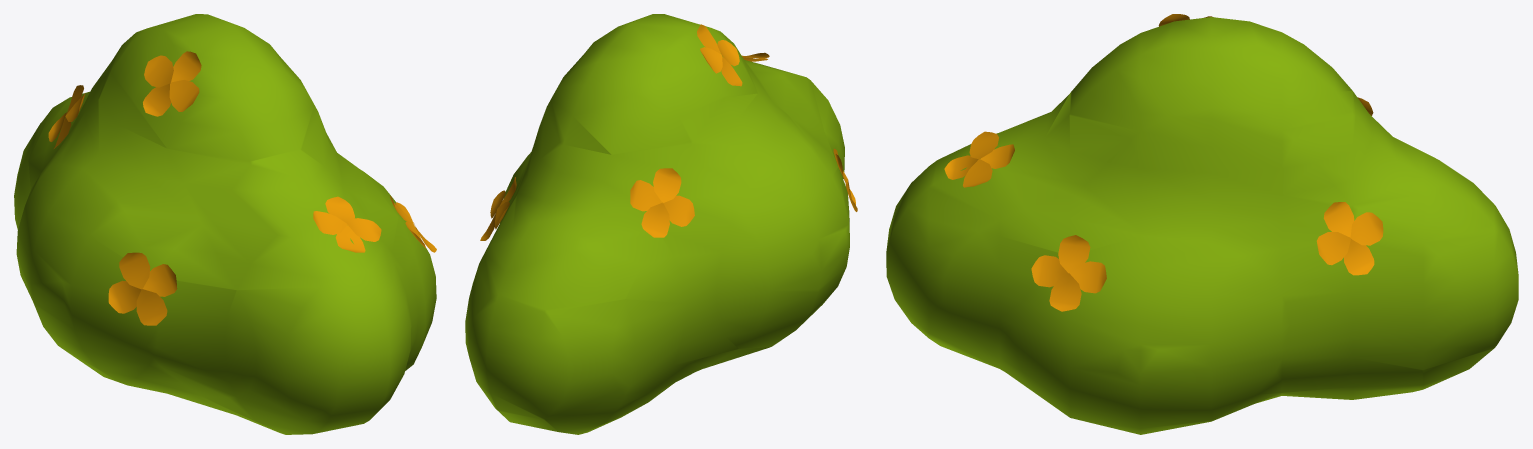
The model's file is Busch.fbx.
3 views of the same model, side by side, from view 1: azimuth 30°, elevation 25°; view 2: azimuth 150°, elevation 25°; view 3: azimuth 270°, elevation 25° (orthographic). The views are drawn at different scales.
Visible parts, largest first — view 1: Busch; view 2: Busch; view 3: Busch.
Boxes of the visible parts, box(x1,y1,x2,y2) form: Busch: box(14, 14, 436, 434); Busch: box(465, 14, 857, 434); Busch: box(886, 14, 1518, 434).
Bounding box in the file's own units: 1.55 × 1.51 × 2.4.
